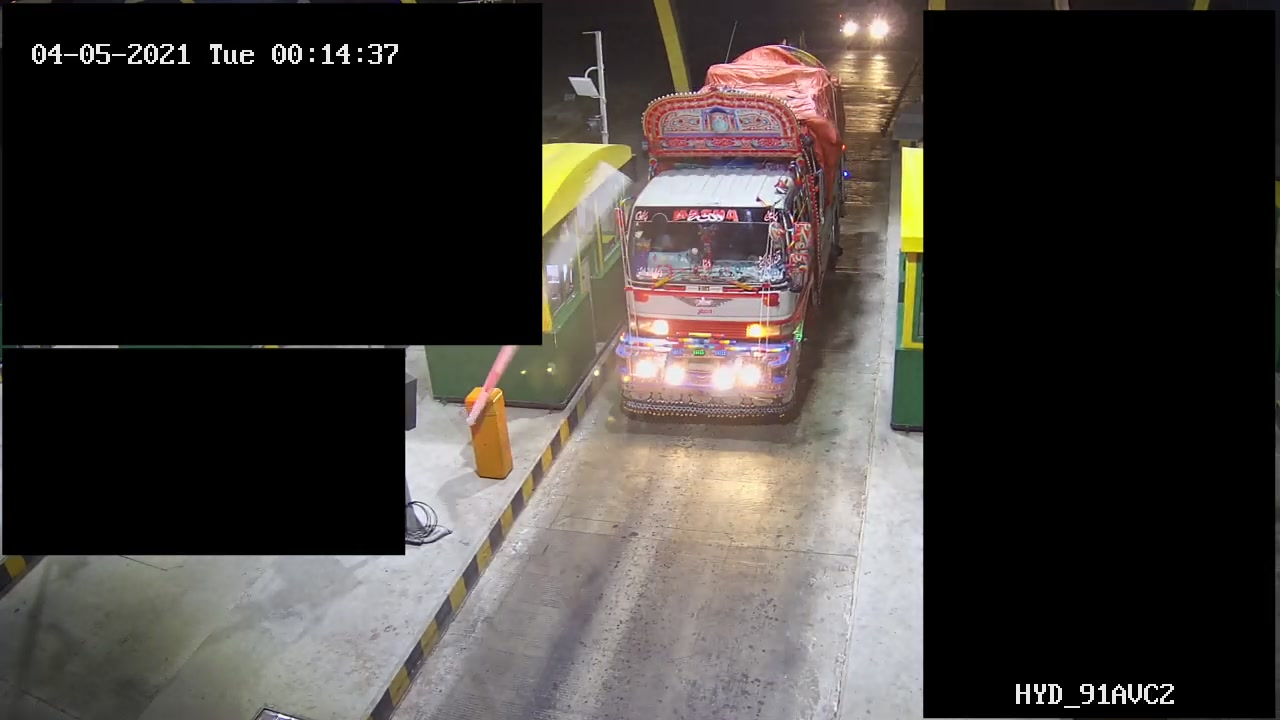F5: (608, 41, 863, 437)
